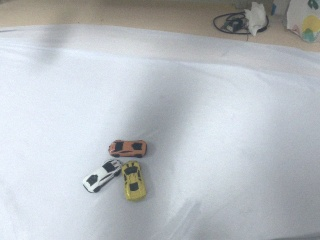toy_car: (83, 159, 122, 193), (122, 161, 146, 201), (108, 140, 147, 158)
